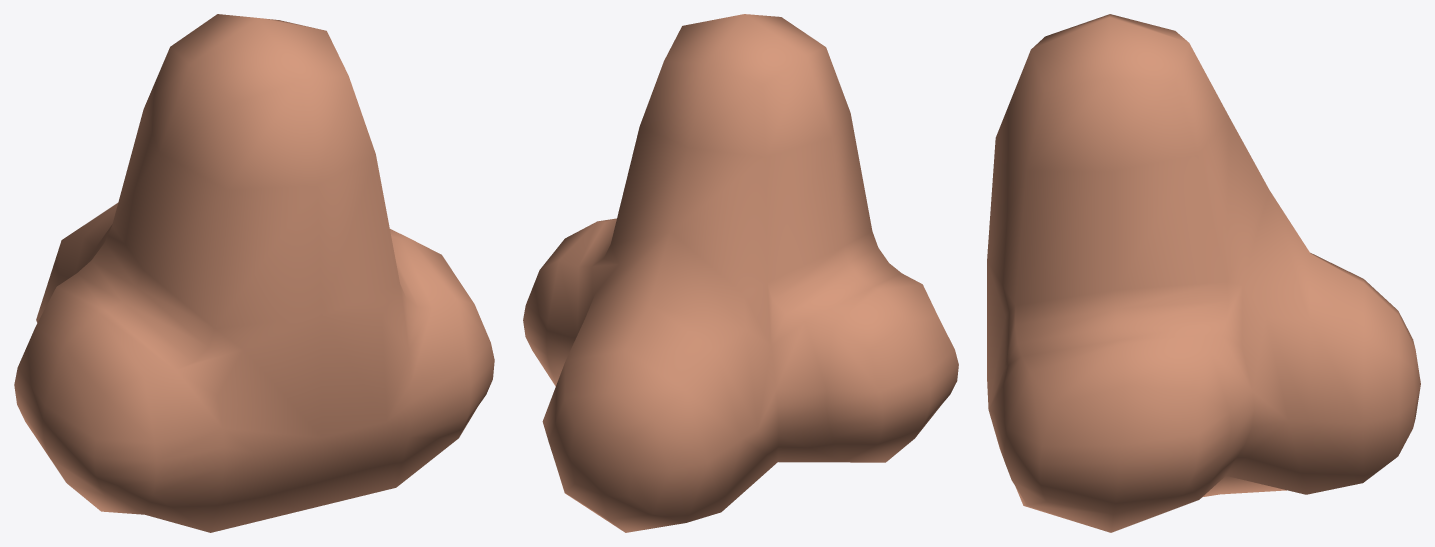
File: towerNose.fbx
The picture shows the model from 3 angles, left to right: view 1: azimuth 30°, elevation 25°; view 2: azimuth 150°, elevation 25°; view 3: azimuth 270°, elevation 25°; orthographic projection. The views are drawn at different scales.
Parts seen in each view (by area): view 1: Cube; view 2: Cube; view 3: Cube.
Boxes of the visible parts, <box> form: Cube: <box>14,14,494,532</box>; Cube: <box>523,14,958,532</box>; Cube: <box>987,14,1420,532</box>.
Bounding box in the file's own units: 364 × 408 × 336.
